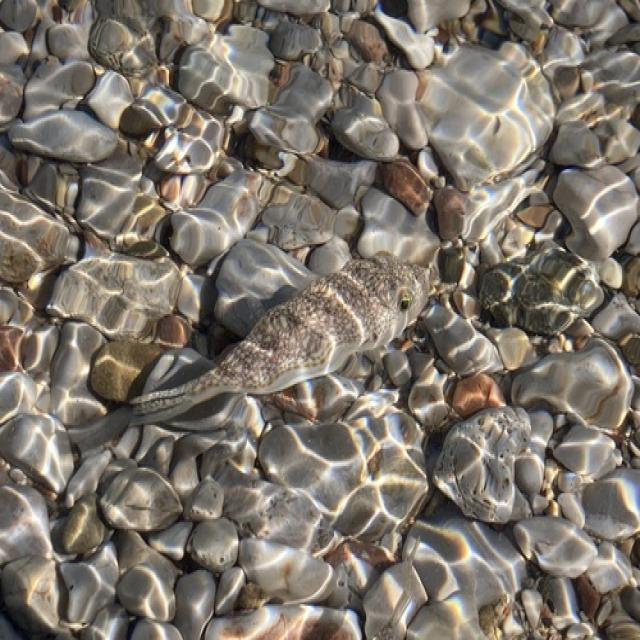Balik: (132, 255, 431, 419)
